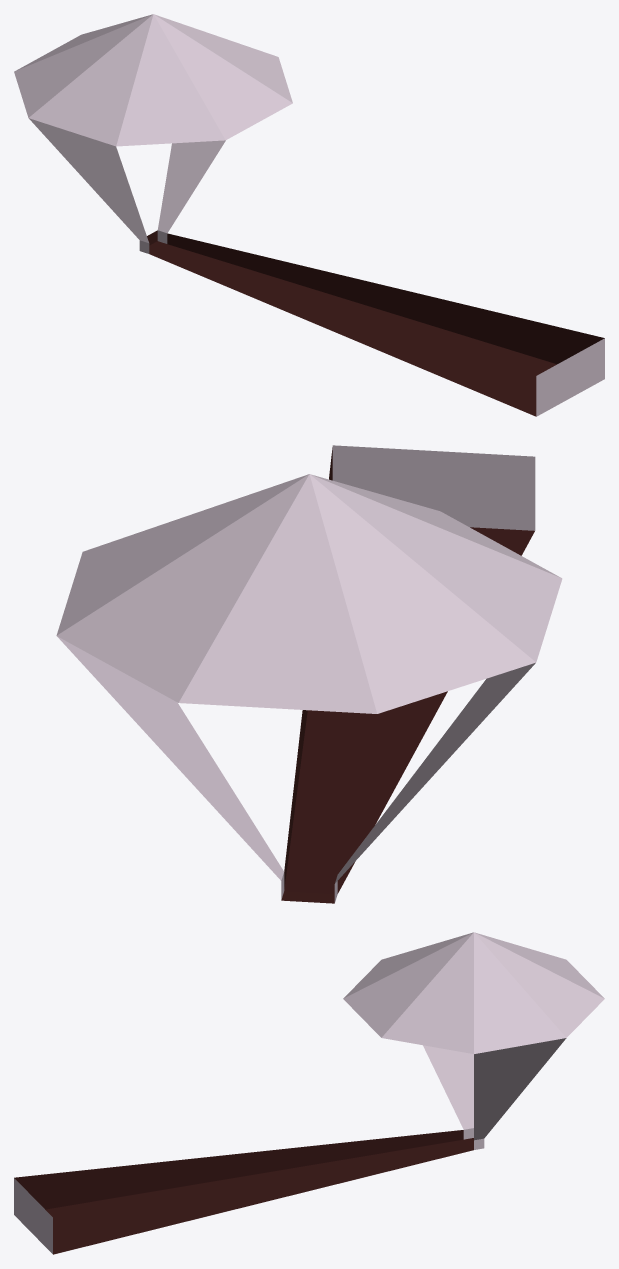
The model's file is lamp.fbx.
3 renders of one model, top to bottom at view 1: azimuth 30°, elevation 25°; view 2: azimuth 150°, elevation 25°; view 3: azimuth 270°, elevation 25°, orthographic. The views are drawn at different scales.
Parts seen in each view (by area): view 1: Cone; view 2: Cone; view 3: Cone.
Boxes of the visible parts, x1,y1,x2,y2 form: Cone: (14,14,604,416); Cone: (56,445,562,903); Cone: (14,932,604,1254).
Size of the model in its own units: 1068 by 737 by 1750.
